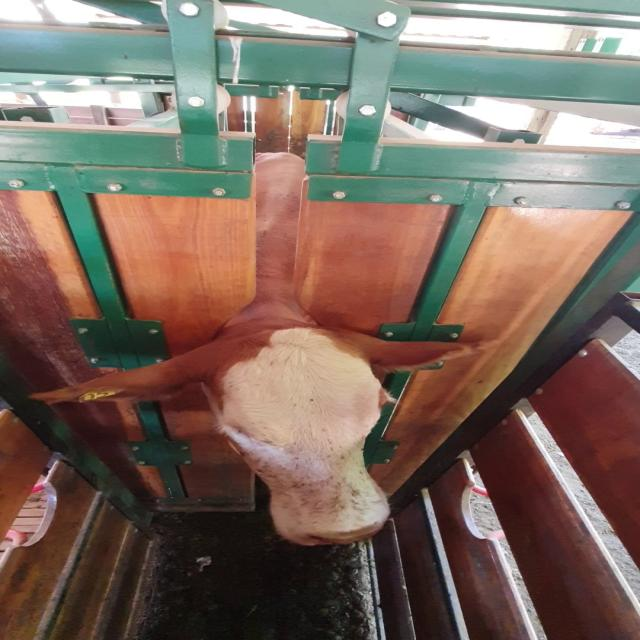cowFace: (210, 327, 390, 545)
